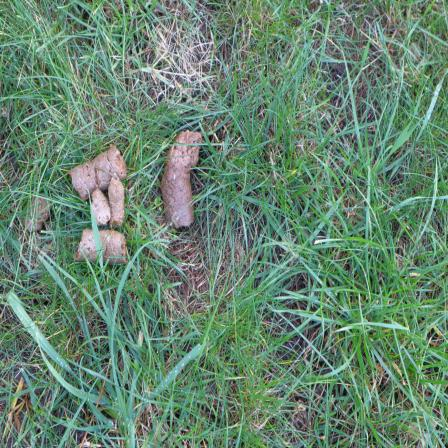dog-poop: (64, 140, 136, 272), (160, 123, 201, 232)
